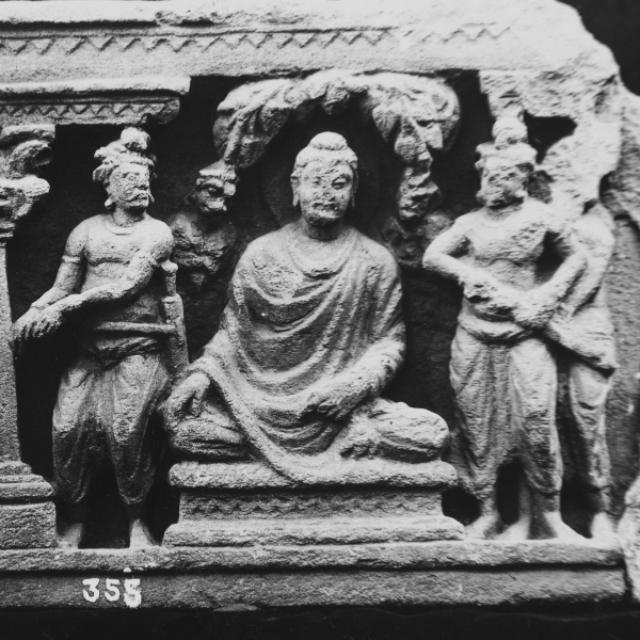buddha-sitting: (184, 134, 441, 456)
